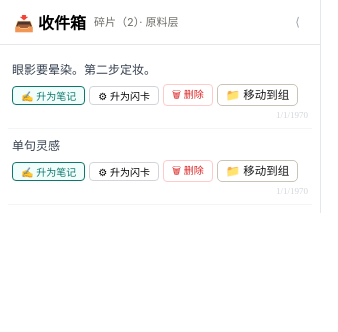
FeedFragmentList 收件箱状态机 › 升笔记：表单预填首句 → 确认 → 碎片移除 + 父层打开新笔记
Expected: the element with test id "fragment-card-1" is shown, left=8, top=53, right=312, bottom=129
Note: 打开轻确认表单：标题预填首句（可改），归组默认未归组
Click the button with test id "promote-note-1" at (49, 95), box left=12, top=86, right=85, bottom=105
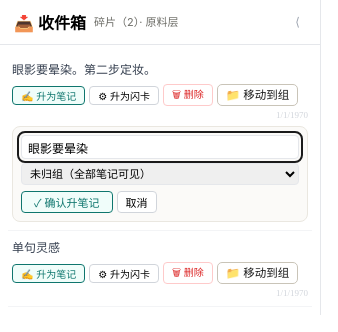
Now the field with test id "promote-title" holds "眼影要晕染"
Now the dropdown with test id "promote-group" shows "未归组（全部笔记可见）", box left=21, top=163, right=299, bottom=185
Note: 改标题 + 选组 → 确认
Replace the text in the field with test id "promote-title" with "晕染笔记" at (160, 147), box left=21, top=135, right=299, bottom=159
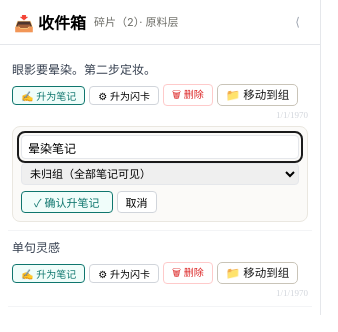
Select "化妆美妆" in the dropdown with test id "promote-group" at (160, 174), box left=21, top=163, right=299, bottom=185
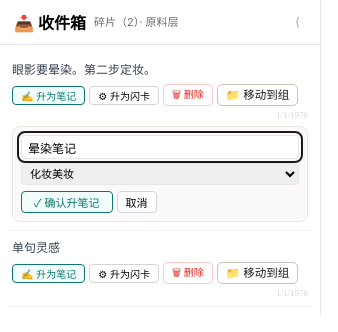
Click the button with test id "promote-confirm" at (67, 202), box left=21, top=191, right=113, bottom=213
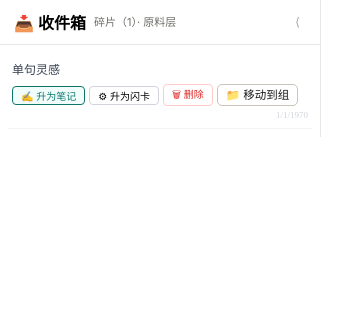
Now the element with test id "fragment-card-1" is gone
